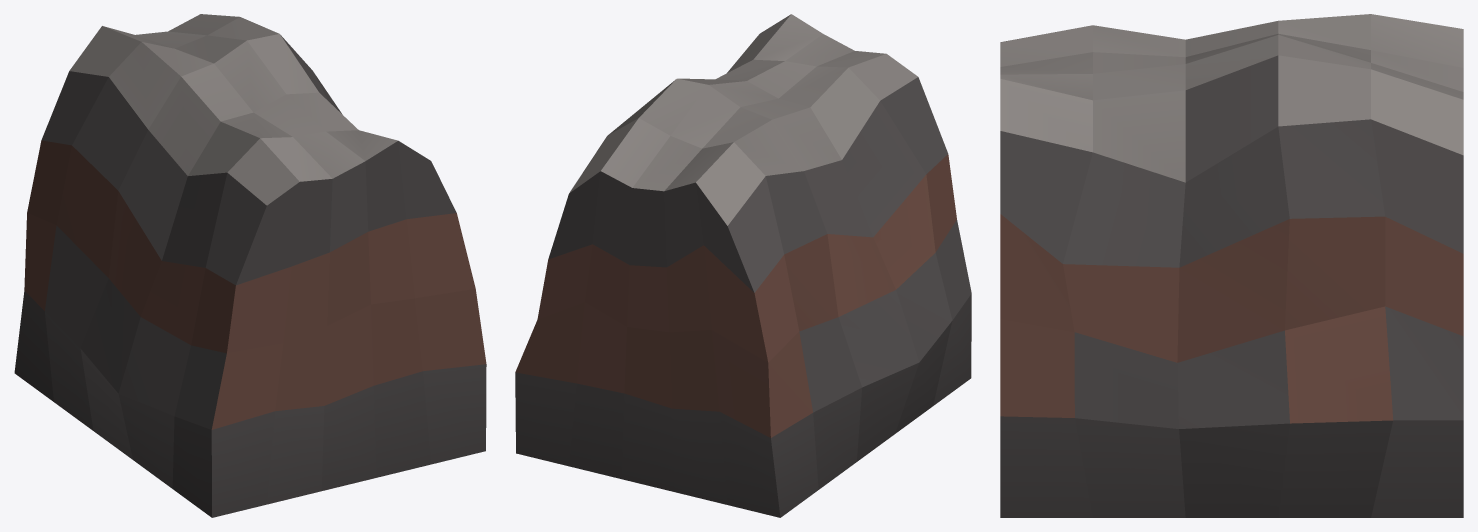
Rendered from roca_recta_3.glb.
3 views of the same model, side by side, from view 1: azimuth 30°, elevation 25°; view 2: azimuth 150°, elevation 25°; view 3: azimuth 270°, elevation 25° (orthographic). The views are drawn at different scales.
Visible parts, largest first — view 1: propforge-cuartos-roca_recta; view 2: propforge-cuartos-roca_recta; view 3: propforge-cuartos-roca_recta.
Boxes of the visible parts, <box> form: propforge-cuartos-roca_recta: <box>14,14,486,517</box>; propforge-cuartos-roca_recta: <box>515,14,971,517</box>; propforge-cuartos-roca_recta: <box>1000,14,1463,517</box>.
Size of the model in its own units: 0.9091 by 0.986 by 1.
